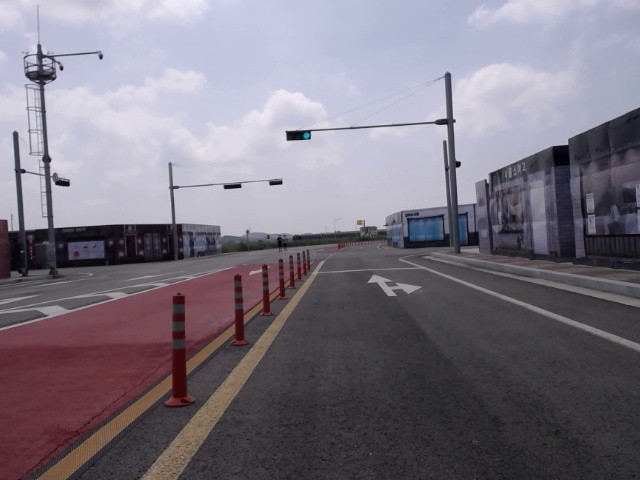green_3: (286, 131, 312, 141)
